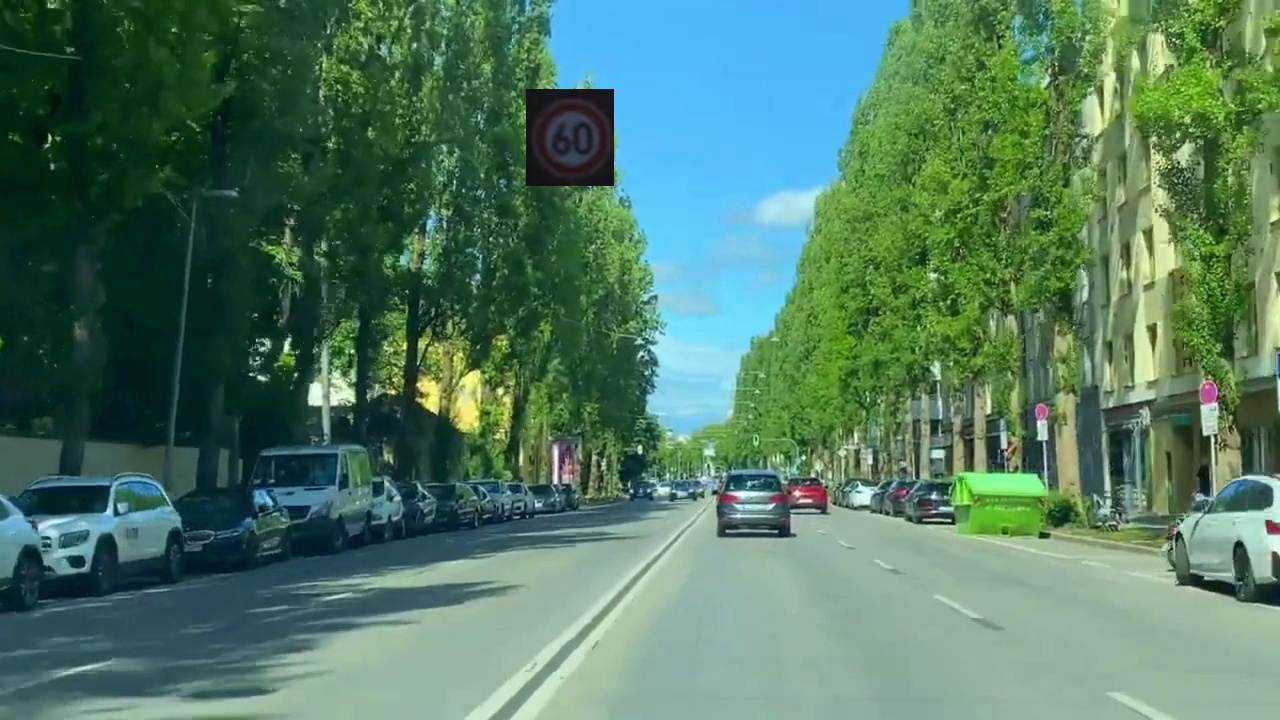Speed 60: (526, 89, 614, 186)
